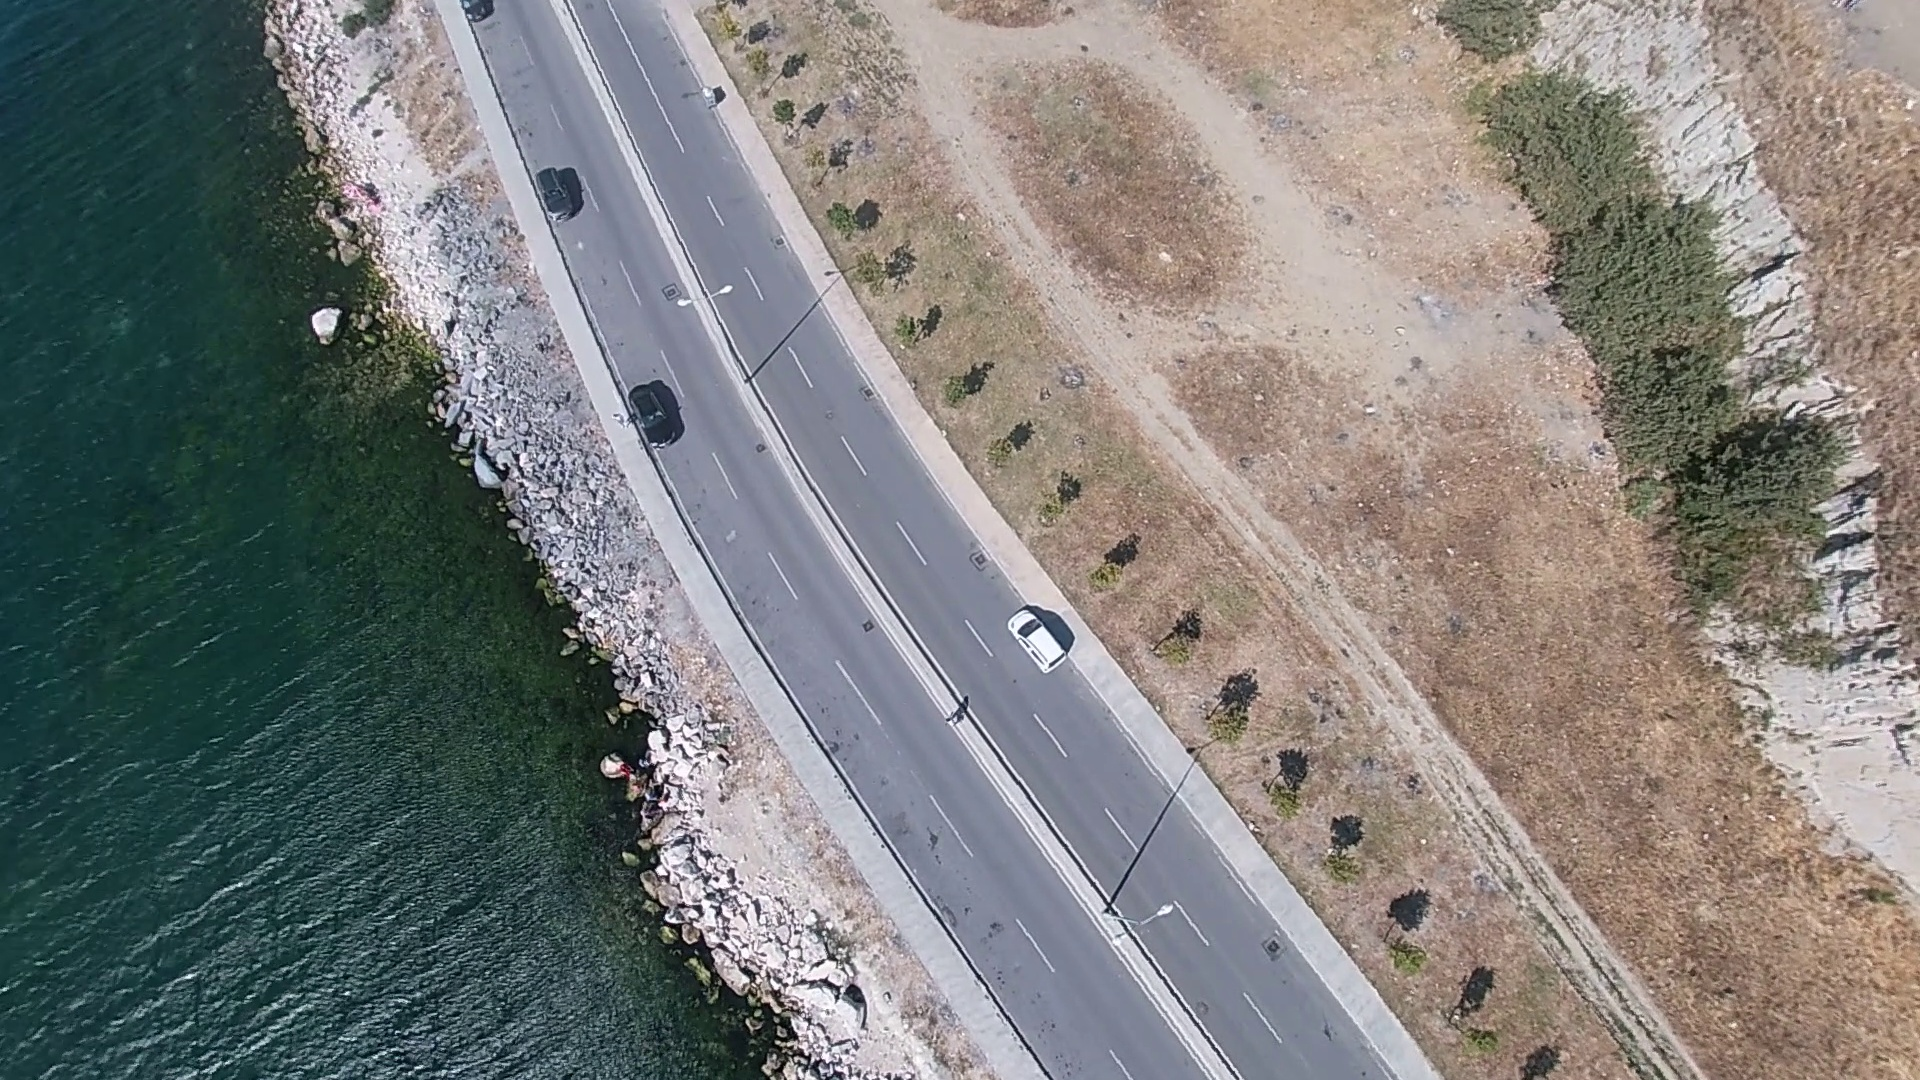arac: (1005, 602, 1073, 675), (528, 155, 591, 222), (626, 384, 678, 440)
insan: (993, 417, 1034, 455), (1324, 816, 1363, 855), (912, 302, 942, 342)
